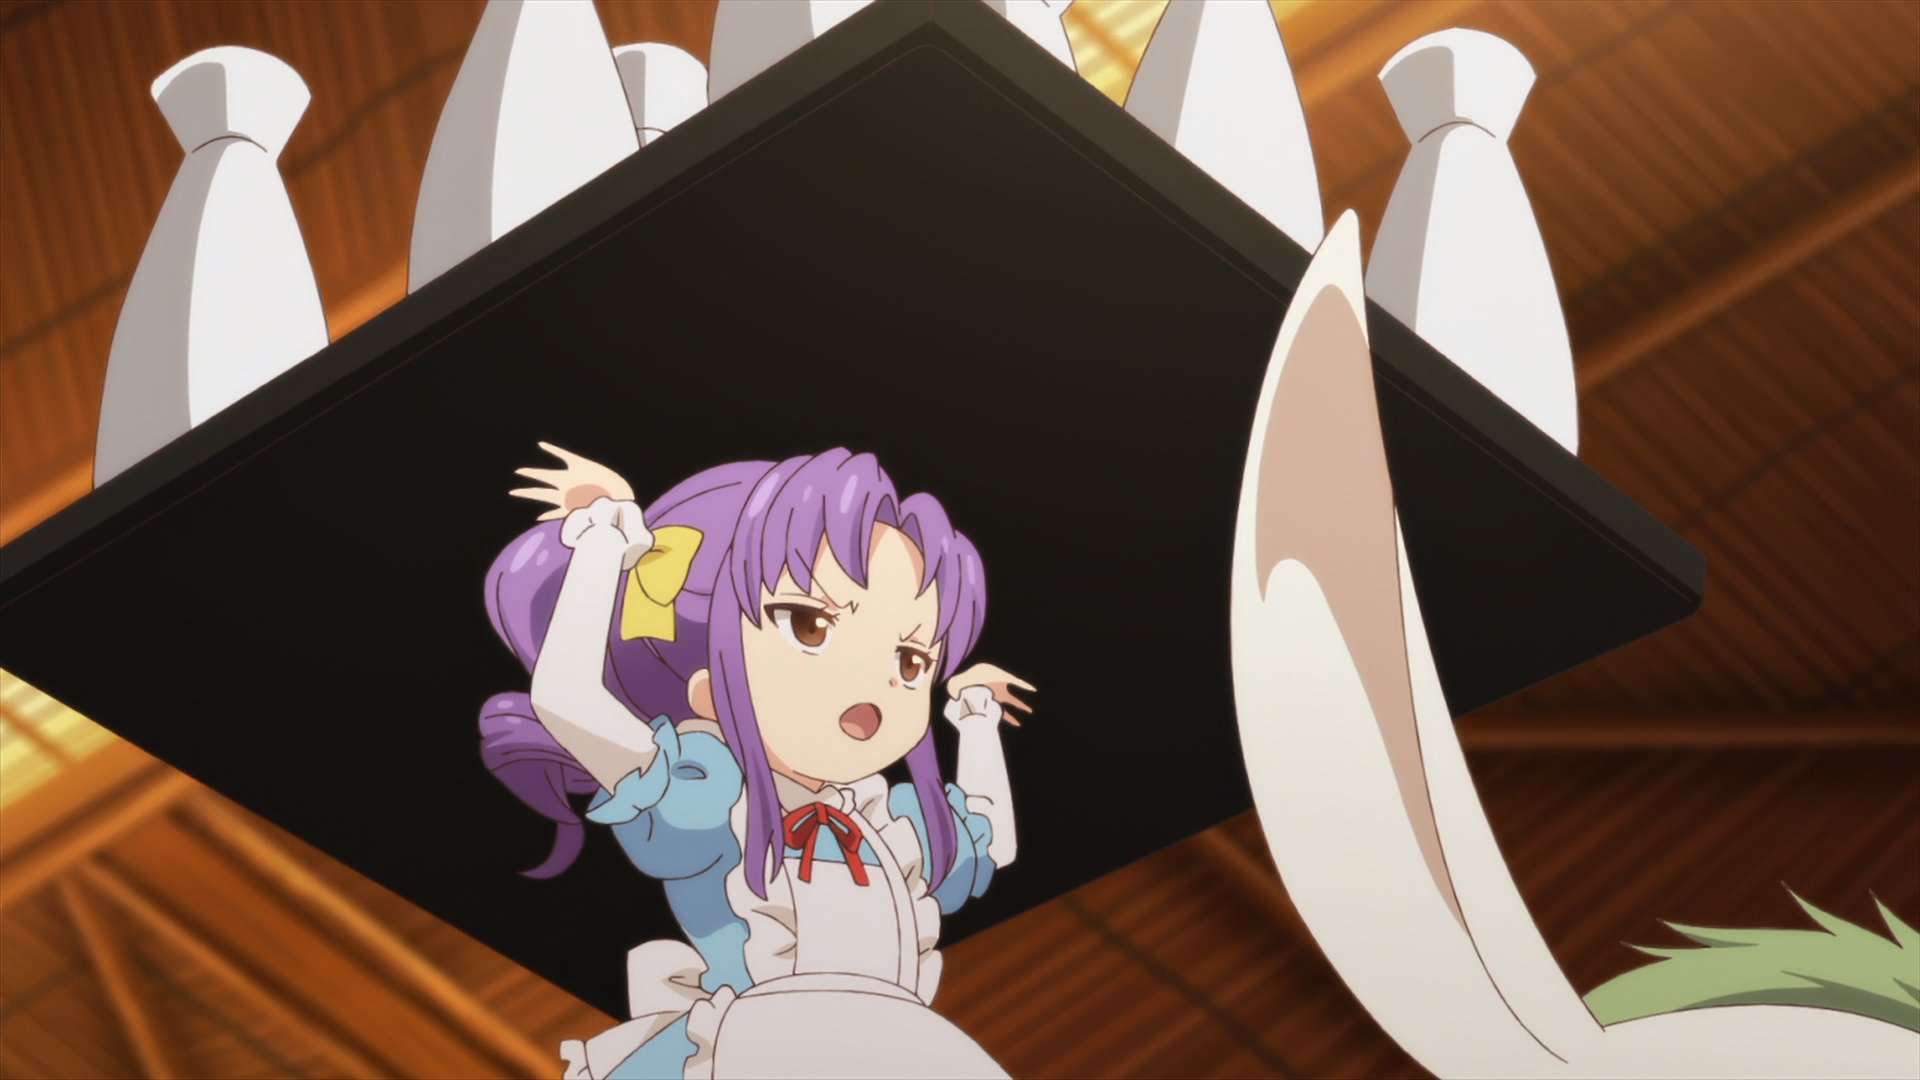瓜之介: (1229, 208, 1920, 1080)
阿菊: (481, 436, 1036, 1080)
